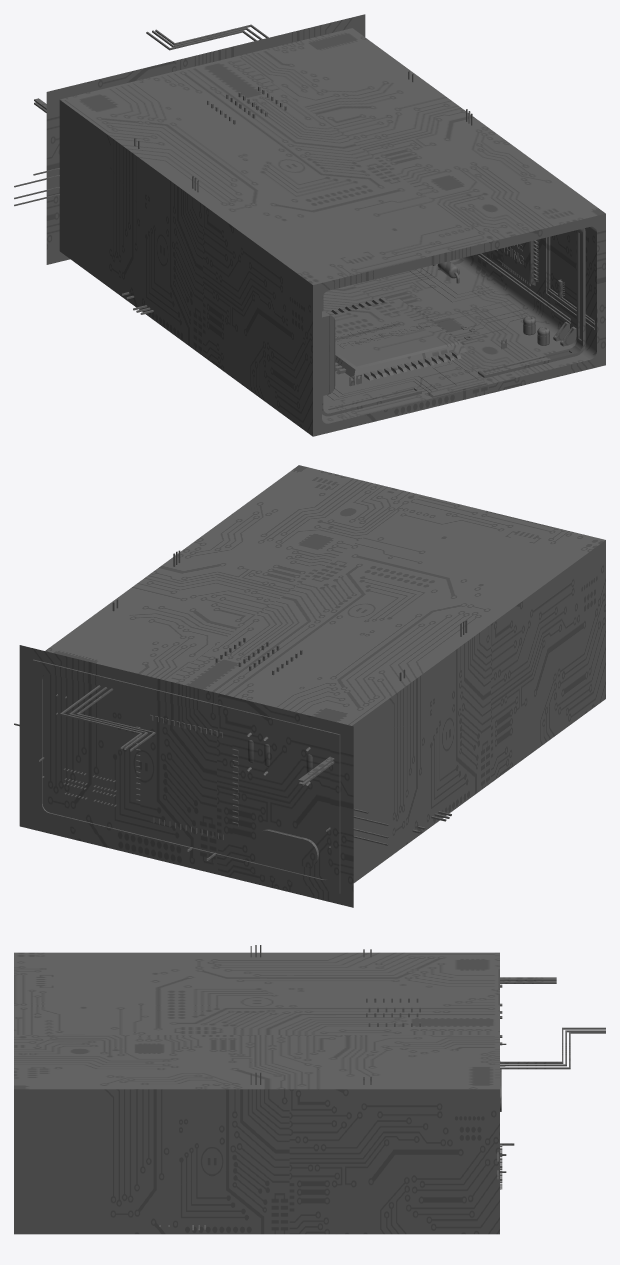
The model's file is Beeple_InsidePhone.fbx.
3 views of the same model, one above another, from view 1: azimuth 30°, elevation 25°; view 2: azimuth 150°, elevation 25°; view 3: azimuth 270°, elevation 25° (orthographic). The views are drawn at different scales.
Parts seen in each view (by area): view 1: iphone_x; view 2: iphone_x; view 3: iphone_x.
Boxes of the visible parts, <box> form: iphone_x: <box>14,14,605,436</box>; iphone_x: <box>14,465,605,907</box>; iphone_x: <box>14,945,605,1234</box>.
Bounding box in the file's own units: 3160 × 1615 × 4750.
Materials: 1 (1 with a texture image).
